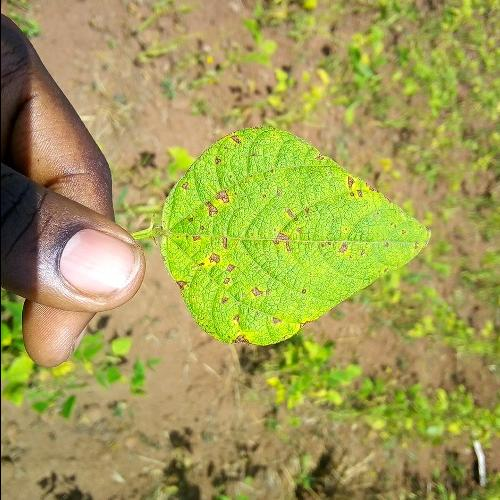hawar: (183, 169, 247, 305), (264, 189, 320, 277), (246, 282, 286, 330), (328, 230, 390, 259), (337, 170, 374, 206), (220, 330, 259, 345)
mozaik: (172, 128, 434, 351)
